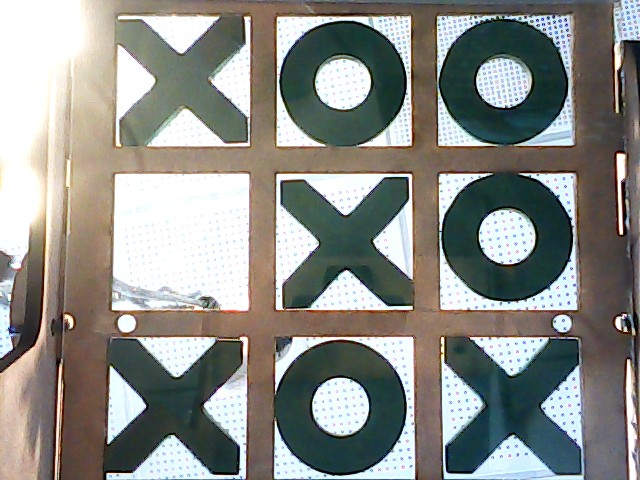O: (275, 335, 414, 479), (441, 173, 577, 301), (278, 18, 409, 147), (441, 21, 571, 144)
X: (105, 335, 246, 480), (441, 337, 584, 479), (112, 15, 253, 149), (278, 176, 415, 307)
